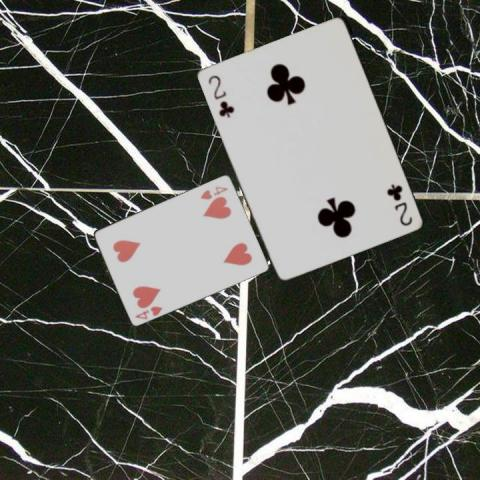2c: (205, 72, 235, 119), (386, 181, 414, 227)
4h: (132, 302, 164, 320), (198, 183, 229, 201)
